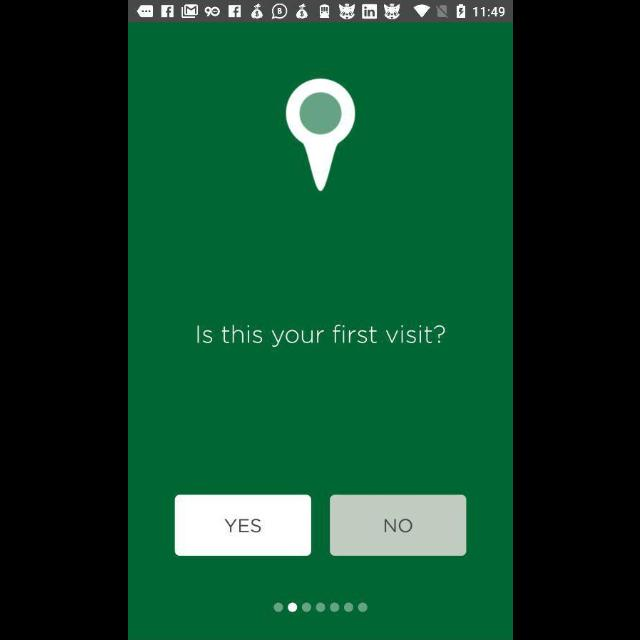icon: (285, 78, 355, 192)
pageindicator: (272, 602, 368, 614)
text: (196, 324, 444, 348)
textbutton: (329, 494, 465, 556), (175, 494, 311, 556)
uppertaskbar: (128, 1, 512, 23)
